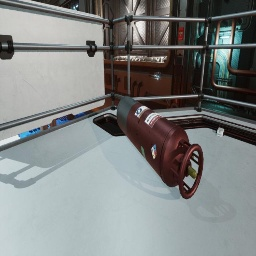0: (49, 119, 57, 128), (40, 125, 48, 131)
FireAlarm ,: (178, 27, 184, 40)
NitrogenTank ,: (116, 96, 204, 199), (67, 114, 74, 120), (56, 118, 58, 120)
